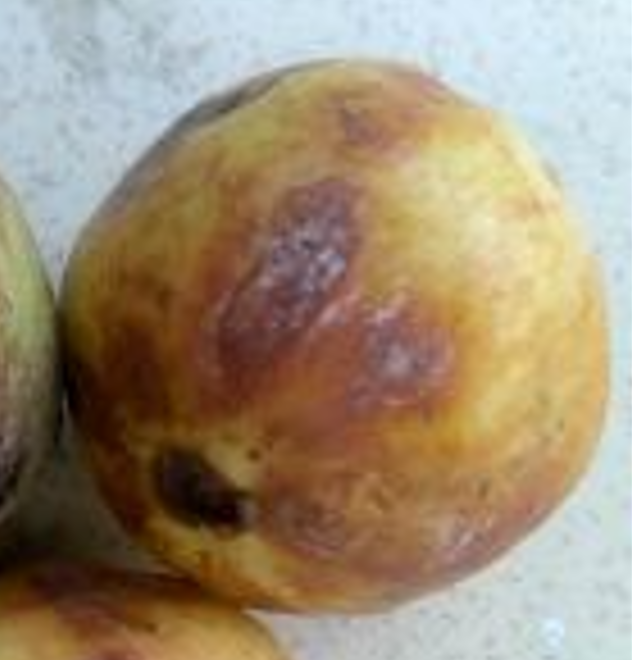guava_C: (59, 57, 612, 616)
